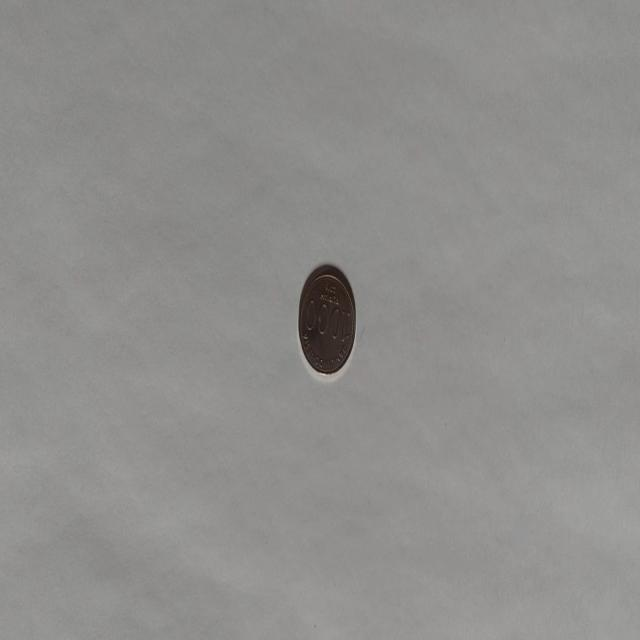seribu rupiah koin: (296, 262, 356, 380)
